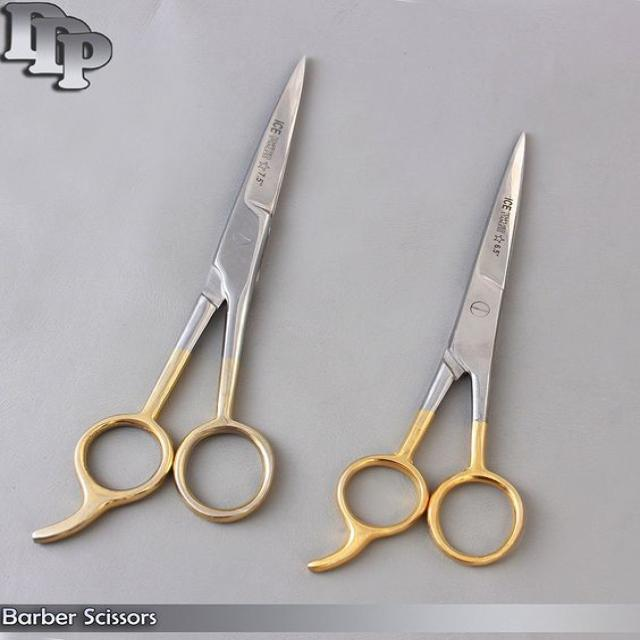scissor: (26, 56, 304, 542), (316, 136, 530, 572)
